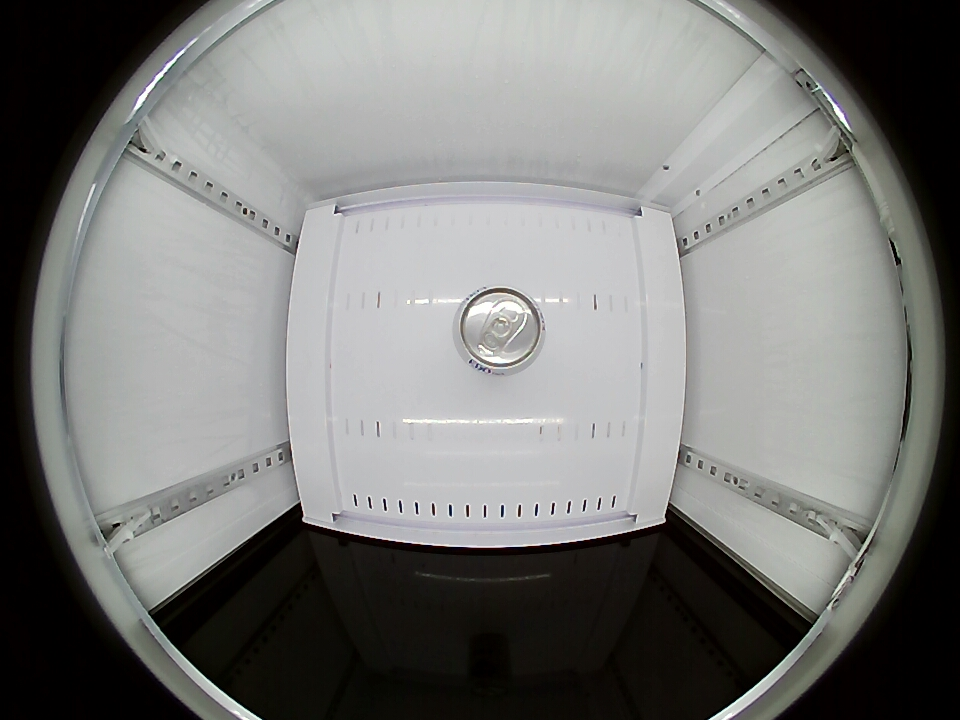rusuanjunqishui: (454, 286, 546, 375)
